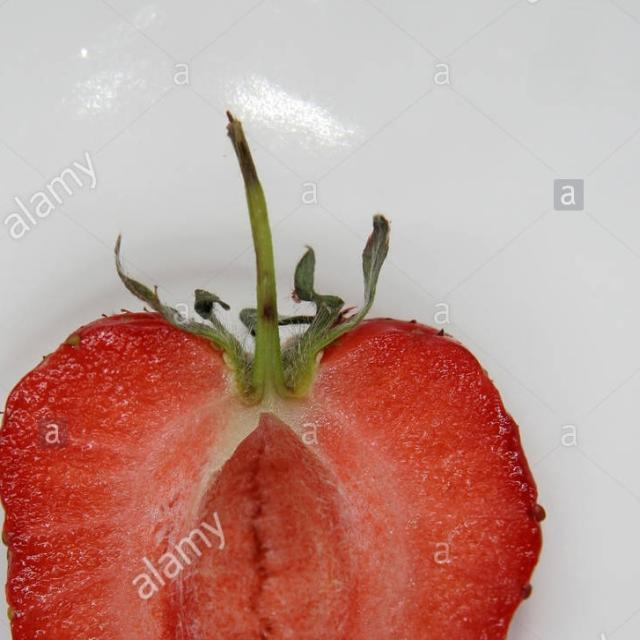strawberry: (0, 129, 567, 639)
